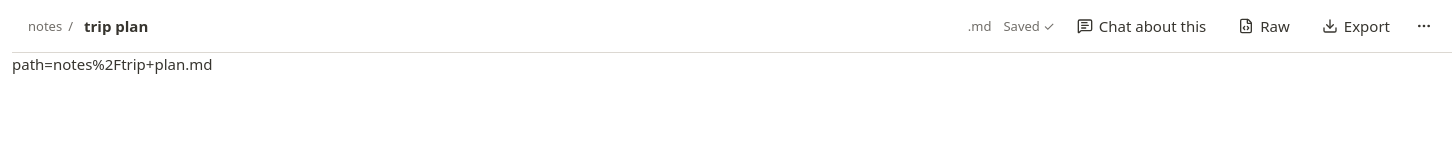
Test: clicking a breadcrumb ancestor routes path + a dir=1 hint (not just path)
This screenshot has width=1452, height=160.
Click the button "notes" at (45,26), box [28,16,62,36]
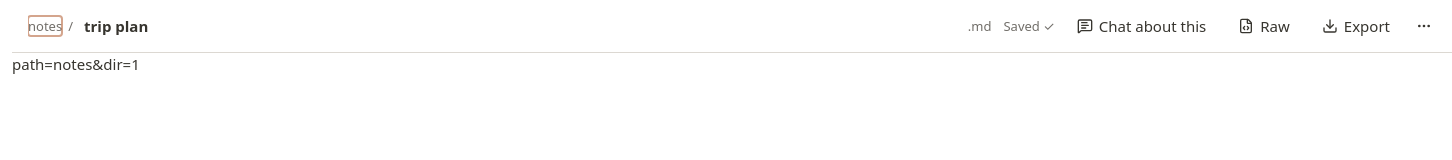
Expected: the text with test id "params-probe" reads "path=notes&dir=1", [12,54,140,74]
